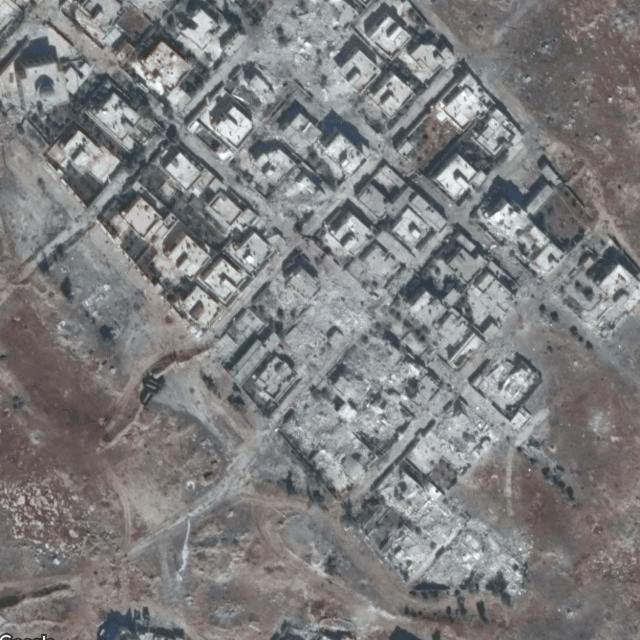damaged_building: (250, 268, 542, 597), (238, 0, 356, 107), (262, 163, 331, 233)
